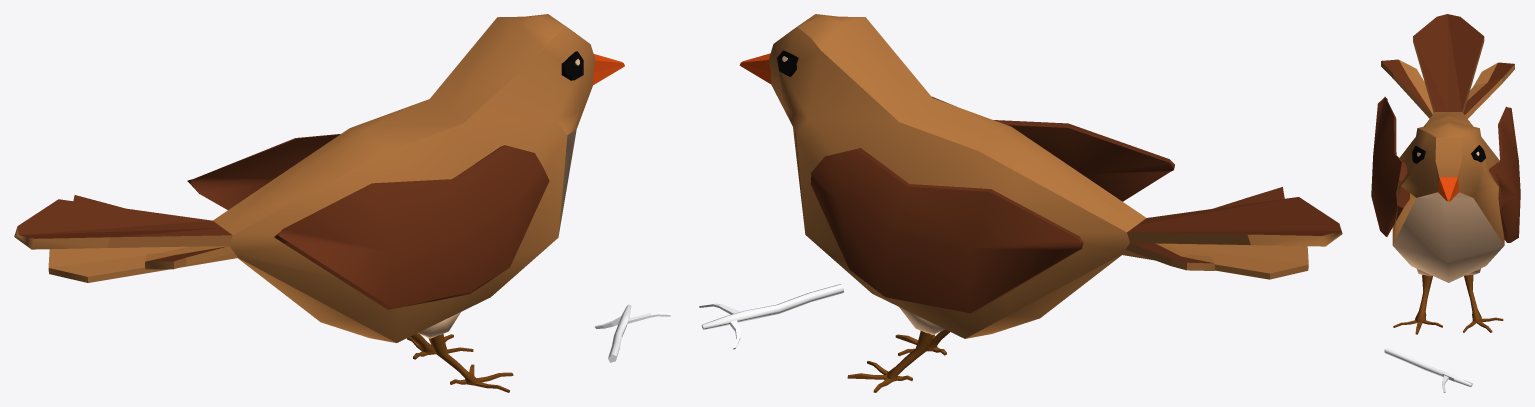
Rendered from Sparrow_2.obj.
The picture shows the model from 3 angles, left to right: view 1: azimuth 30°, elevation 25°; view 2: azimuth 150°, elevation 25°; view 3: azimuth 270°, elevation 25°; orthographic projection. The views are drawn at different scales.
Visible parts, largest first — view 1: Box001, Box002, Box003, Cylinder005, Cylinder007; view 2: Box001, Box003, Box002, Cylinder007, Cylinder006; view 3: Box001, Box002, Box003, Cylinder007, Cylinder005, Cylinder006, Cylinder001, Cylinder004.
Boxes of the visible parts, x1,y1,x2,y2 form: Box001: (14,14,624,342); Box002: (274,145,549,309); Box003: (187,134,340,209); Cylinder005: (428,334,513,392); Cylinder007: (594,304,670,362); Box001: (739,14,1342,338); Box003: (810,148,1083,313); Box002: (931,96,1174,201); Cylinder007: (699,284,843,349); Cylinder006: (847,331,933,392); Box001: (1381,14,1514,282); Box002: (1371,96,1409,236); Box003: (1489,106,1520,242); Cylinder007: (1384,348,1473,392); Cylinder005: (1393,275,1442,334); Cylinder006: (1463,274,1503,332); Cylinder001: (1412,146,1425,163); Cylinder004: (1471,145,1485,162).
Size of the model in its own units: 69.58 by 35.05 by 20.27.
